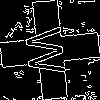W: (25, 25, 75, 77)
